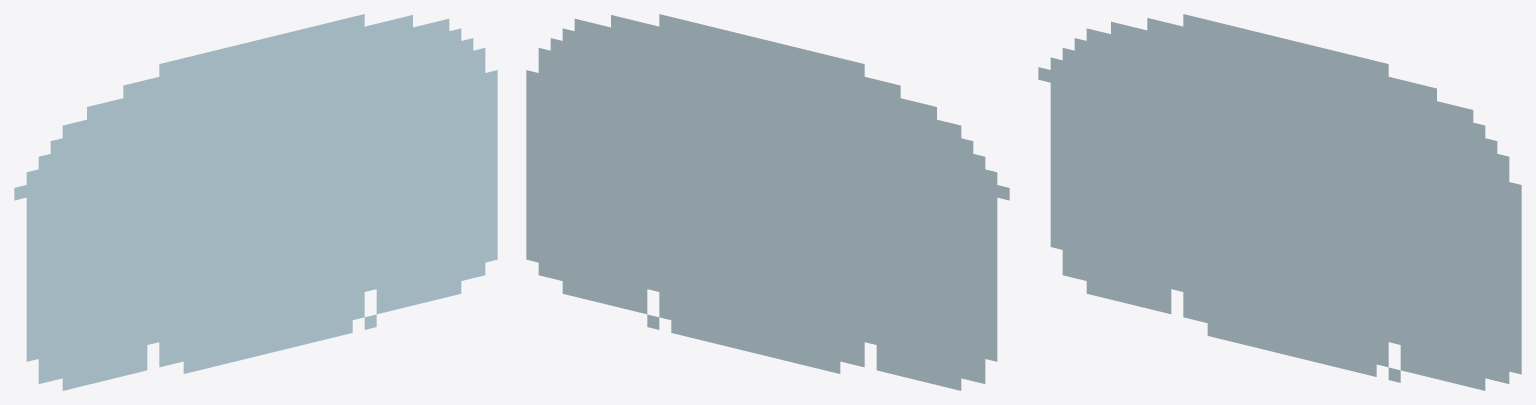
The model's file is wp_water_176.obj.
3 views of the same model, side by side, from view 1: azimuth 30°, elevation 25°; view 2: azimuth 150°, elevation 25°; view 3: azimuth 330°, elevation 25° (orthographic).
Size of the model in its own units: 0.5999 by 0.375 by 0.
1 material, 1 textured.
